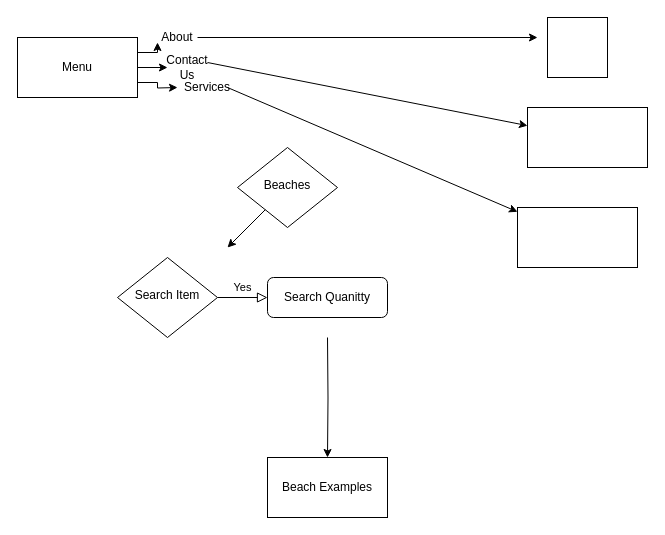
Some shapes in this 665 by 535 pixel diagram are drawn without their labels. Each missing label, with the centre of its shape:
"Gather Contact information. Website contact info listed" belongs at point (587, 137).
"Under Const" belongs at point (577, 47).
"Under Construction" belongs at point (577, 237).
